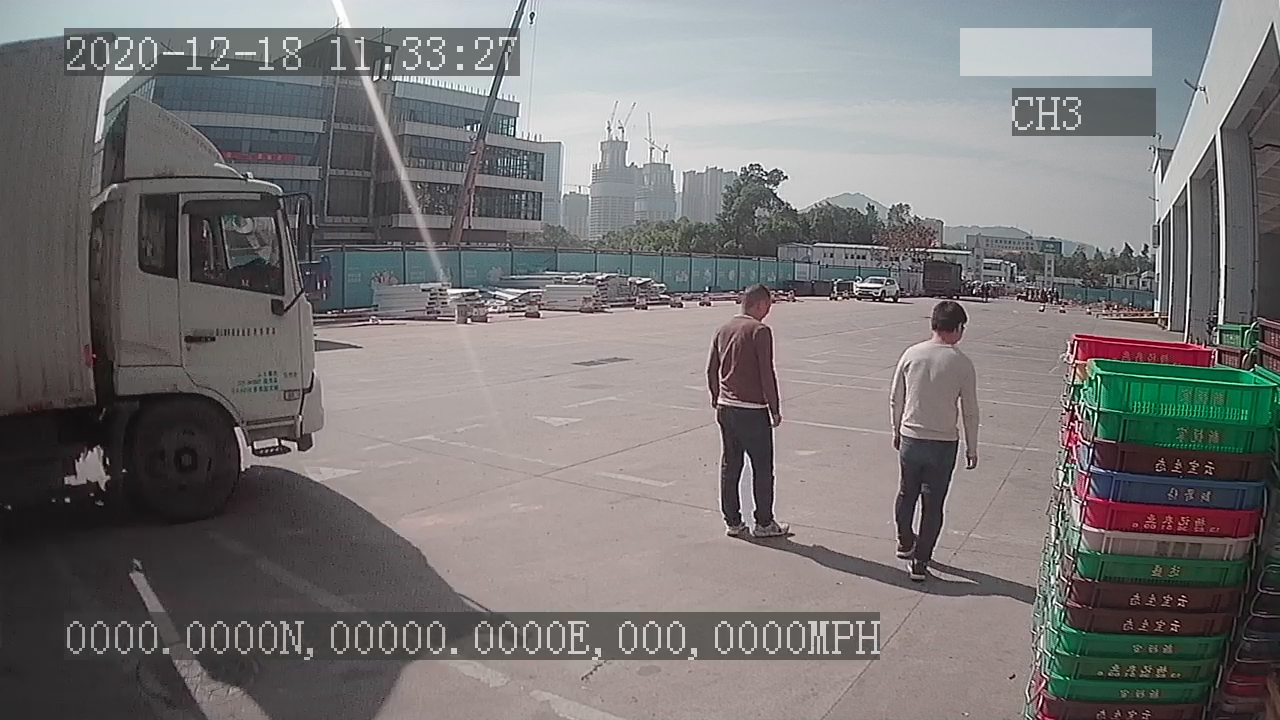person: (889, 299, 979, 580), (702, 280, 793, 544)
